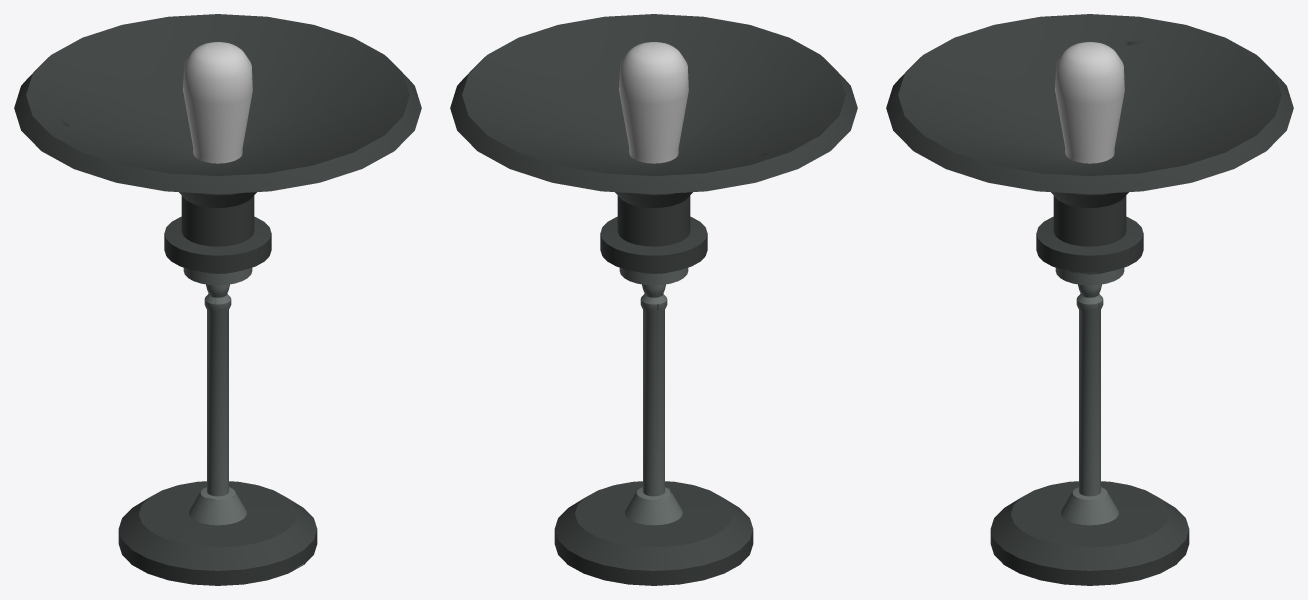
File: lamp_everything_v1.fbx
3 renders of one model, left to right at view 1: azimuth 30°, elevation 25°; view 2: azimuth 150°, elevation 25°; view 3: azimuth 270°, elevation 25°, orthographic.
Visible parts, largest first — view 1: Lamp, Lightbulb; view 2: Lamp, Lightbulb; view 3: Lamp, Lightbulb.
Boxes of the visible parts, x1,y1,x2,y2 form: Lamp: [14, 14, 421, 585]; Lightbulb: [183, 42, 252, 163]; Lamp: [450, 14, 857, 585]; Lightbulb: [619, 42, 688, 163]; Lamp: [886, 14, 1293, 585]; Lightbulb: [1055, 42, 1124, 163].
Bounding box in the file's own units: 132 × 178 × 132.
